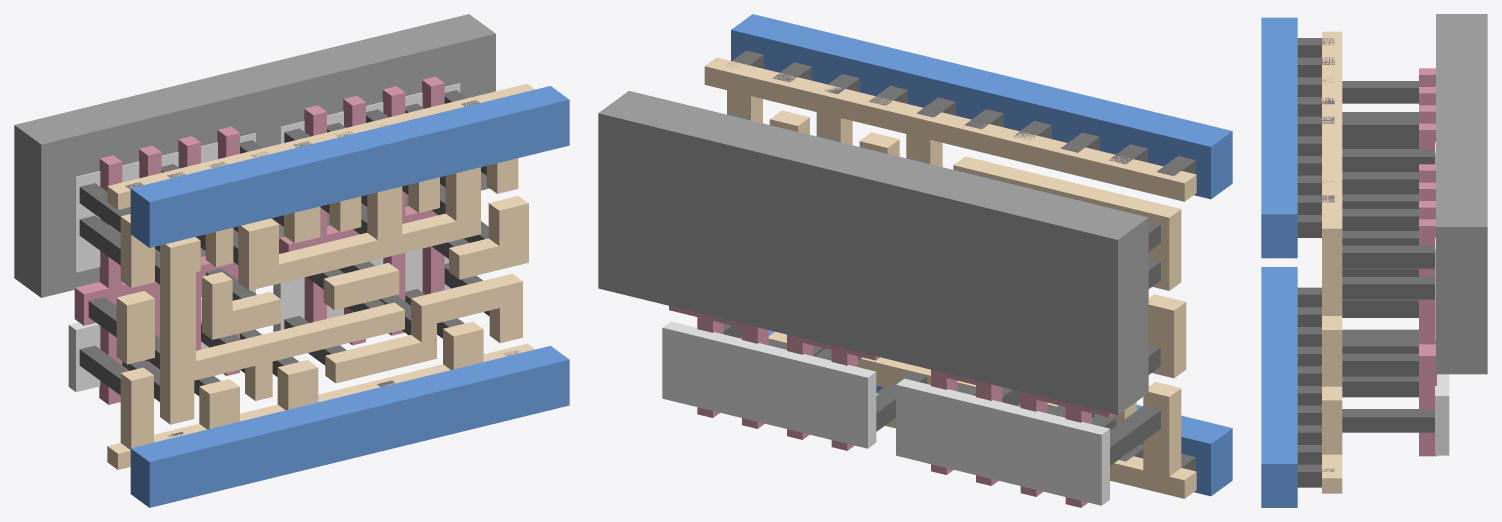
The model's file is sky130_fd_sc_hd__a211oi_2.gds.gltf.
3 renders of one model, left to right at view 1: azimuth 30°, elevation 25°; view 2: azimuth 150°, elevation 25°; view 3: azimuth 270°, elevation 25°, orthographic. The views are drawn at different scales.
Visible parts, largest first — view 1: sky130_fd_sc_hd__a211oi_2_li1, sky130_fd_sc_hd__a211oi_2_met1, sky130_fd_sc_hd__a211oi_2_nwell, sky130_fd_sc_hd__a211oi_2_poly, sky130_fd_sc_hd__a211oi_2_licon, sky130_fd_sc_hd__a211oi_2_diff, sky130_fd_sc_hd__a211oi_2_mcon; view 2: sky130_fd_sc_hd__a211oi_2_nwell, sky130_fd_sc_hd__a211oi_2_diff, sky130_fd_sc_hd__a211oi_2_li1, sky130_fd_sc_hd__a211oi_2_met1, sky130_fd_sc_hd__a211oi_2_poly, sky130_fd_sc_hd__a211oi_2_mcon, sky130_fd_sc_hd__a211oi_2_licon; view 3: sky130_fd_sc_hd__a211oi_2_licon, sky130_fd_sc_hd__a211oi_2_nwell, sky130_fd_sc_hd__a211oi_2_met1, sky130_fd_sc_hd__a211oi_2_mcon, sky130_fd_sc_hd__a211oi_2_li1, sky130_fd_sc_hd__a211oi_2_poly, sky130_fd_sc_hd__a211oi_2_diff.
Part boxes in pixels (x1,y1,x2,y2): sky130_fd_sc_hd__a211oi_2_li1: (107, 83, 534, 469); sky130_fd_sc_hd__a211oi_2_met1: (130, 86, 569, 507); sky130_fd_sc_hd__a211oi_2_nwell: (14, 14, 495, 297); sky130_fd_sc_hd__a211oi_2_poly: (74, 76, 444, 404); sky130_fd_sc_hd__a211oi_2_licon: (79, 90, 489, 401); sky130_fd_sc_hd__a211oi_2_diff: (68, 83, 460, 391); sky130_fd_sc_hd__a211oi_2_mcon: (125, 100, 520, 437); sky130_fd_sc_hd__a211oi_2_nwell: (598, 91, 1148, 415); sky130_fd_sc_hd__a211oi_2_diff: (662, 321, 1109, 505); sky130_fd_sc_hd__a211oi_2_li1: (704, 57, 1196, 498); sky130_fd_sc_hd__a211oi_2_met1: (731, 14, 1232, 496); sky130_fd_sc_hd__a211oi_2_poly: (669, 306, 1113, 507); sky130_fd_sc_hd__a211oi_2_mcon: (726, 50, 1195, 471); sky130_fd_sc_hd__a211oi_2_licon: (723, 114, 1160, 465); sky130_fd_sc_hd__a211oi_2_licon: (1342, 81, 1434, 432); sky130_fd_sc_hd__a211oi_2_nwell: (1436, 14, 1487, 374); sky130_fd_sc_hd__a211oi_2_met1: (1261, 17, 1297, 507); sky130_fd_sc_hd__a211oi_2_mcon: (1297, 38, 1334, 487); sky130_fd_sc_hd__a211oi_2_li1: (1322, 31, 1342, 493); sky130_fd_sc_hd__a211oi_2_poly: (1419, 68, 1436, 456); sky130_fd_sc_hd__a211oi_2_diff: (1435, 86, 1449, 455).
Size of the model in its own units: 4.98 by 3.2 by 2.24.
